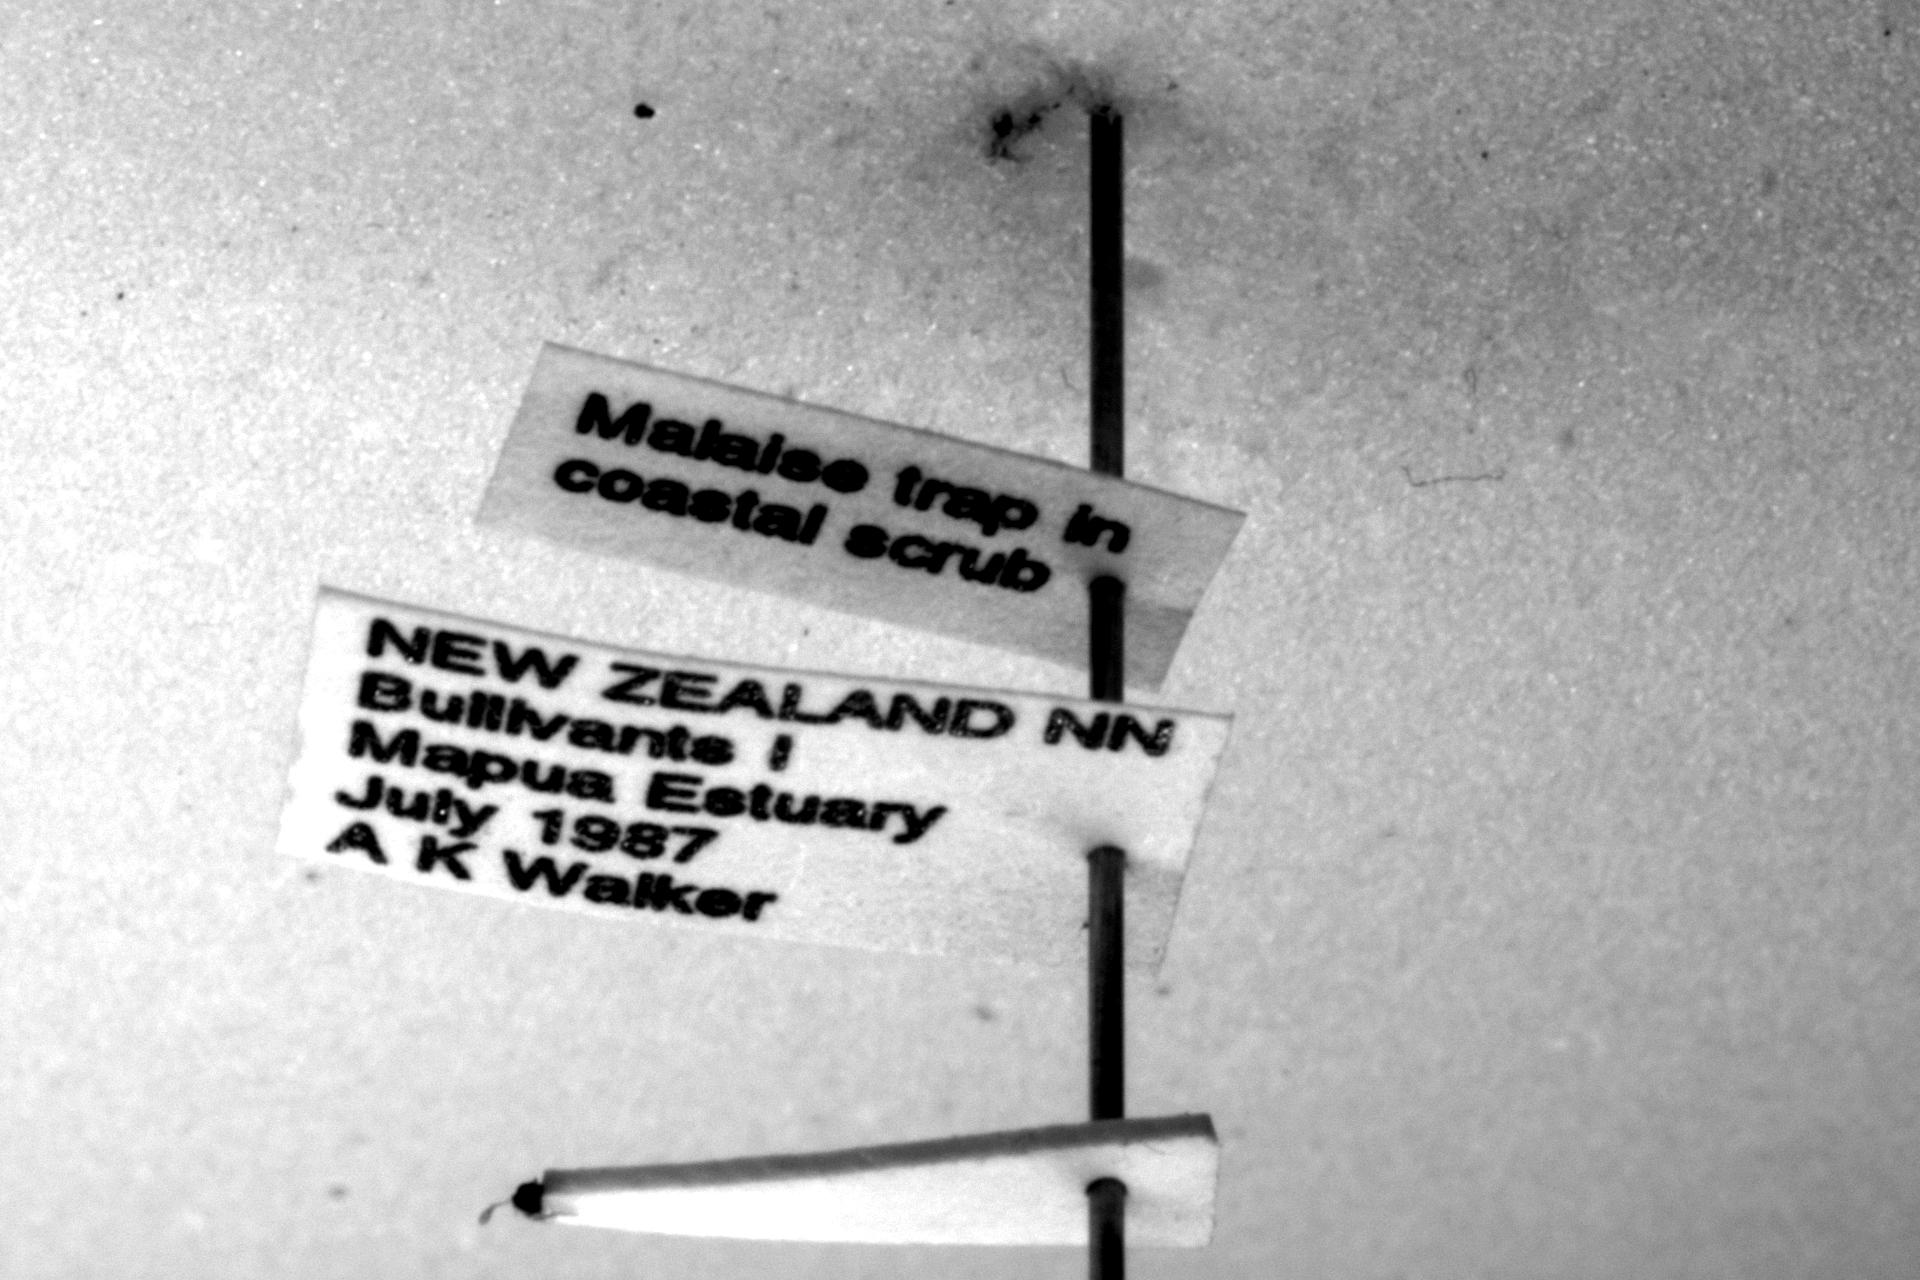typed_label: (277, 589, 1230, 974), (480, 346, 1241, 686)
